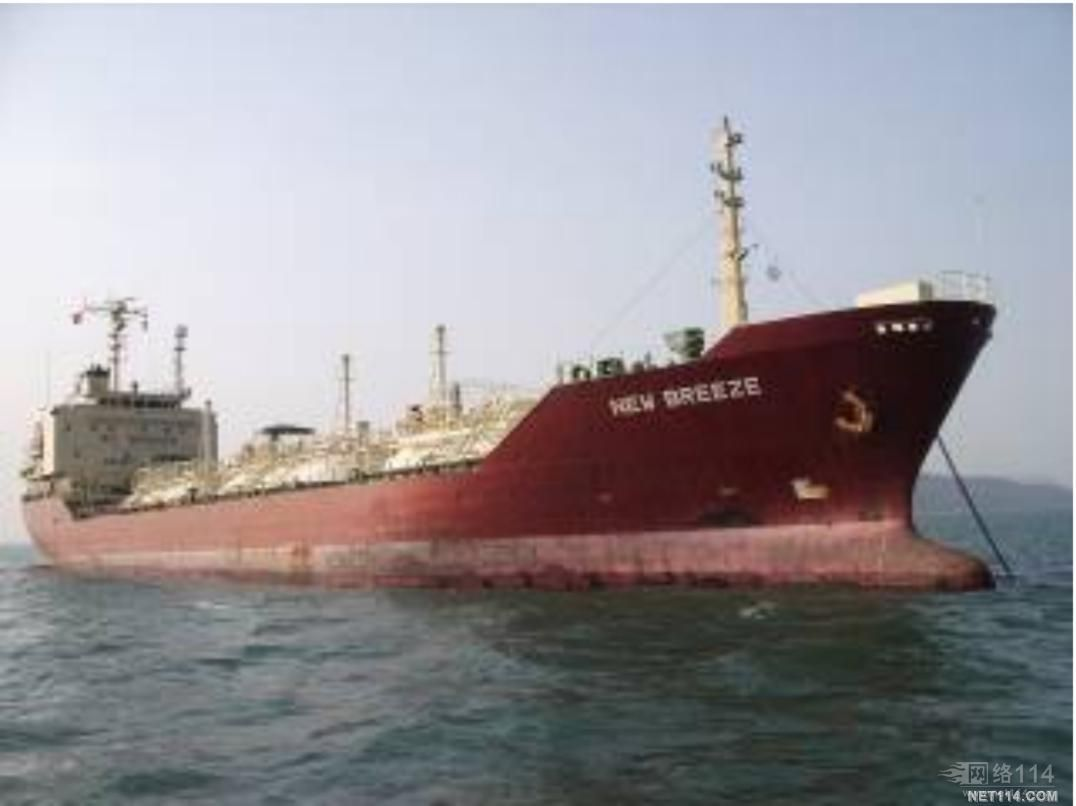Cargoship: (12, 110, 1022, 588)
